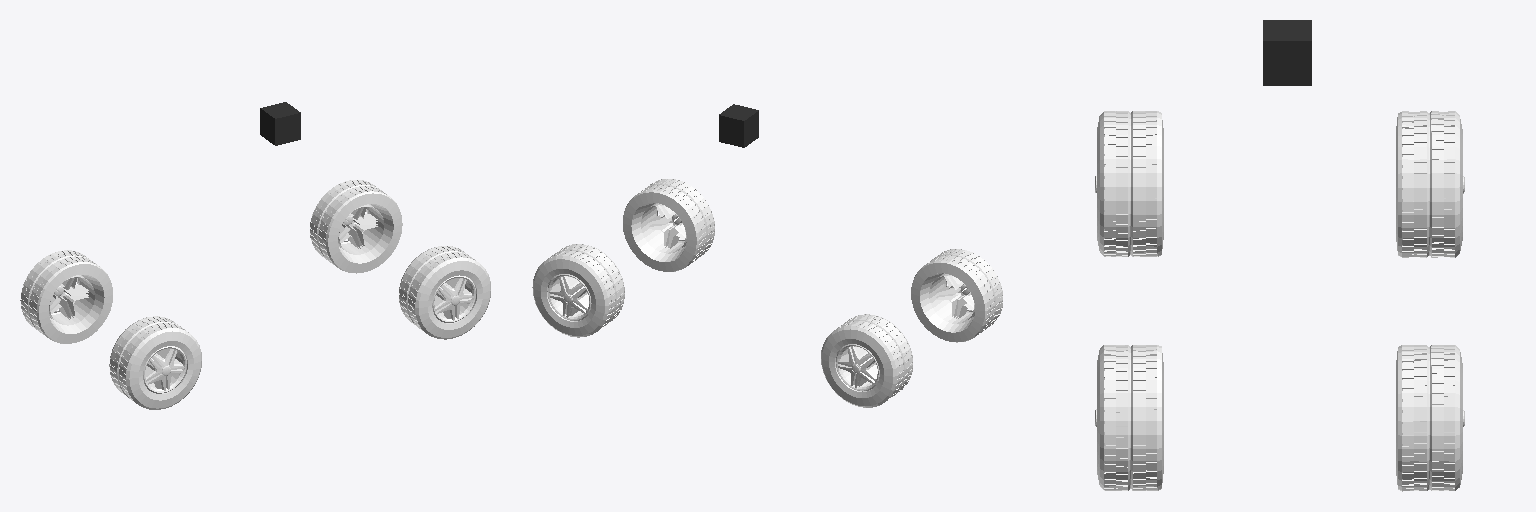
robot.urdf — autonomous_car:
<?xml version="1.0"?>
<robot name="autonomous_car">
  
  <!-- Base Link (Chassis) -->
  <link name="base_link">
    <inertial>
      <mass value="5.0"/>
      <origin xyz="0 0 0"/>
      <inertia ixx="0.1" ixy="0.0" ixz="0.0" iyy="0.1" iyz="0.0" izz="0.1"/>
    </inertial>
   <visual>
      <geometry>
        <mesh filename="car.obj" scale="0.05 0.05 0.05"/>
      </geometry>
      <material name="gray">
        <color rgba="0.5 0.5 0.5 1"/>
      </material>
    </visual>
    <collision>
      <geometry>
        <box size="0.8 0.3 0.15"/>
      </geometry>
    </collision>
  </link>
  
  <!-- Front Left Wheel -->  
  <link name="front_left_wheel">
    <visual>
      <geometry>
        <mesh filename="wl.obj" scale="0.05 0.05 0.05"/>
      </geometry>
      <material name="white">
        <color rgba="255 255 255 255"/>
      </material>
    </visual>
    <collision>
      <geometry>
        <cylinder radius="0.06" length="0.06"/>
      </geometry>
    </collision>
  </link>
  <!-- 將車輪旋轉 90 度，使得輪子的幾何外觀從原本「橫放」改為沿 Y 軸排列，並設定關節旋轉軸沿 Y 軸，讓車輪滾動產生的推進方向為 X 軸 -->
  <joint name="front_left_wheel_joint" type="continuous">
    <parent link="base_link"/>
    <child link="front_left_wheel"/>
    <origin xyz="0.28 0.15 -0.11" rpy="-1.57 0 0"/>
    <axis xyz="0 1 0"/>
  </joint>
  
  
  <!-- Front Right Wheel -->
  <link name="front_right_wheel">
   <visual>
      <geometry>
        <mesh filename="wlr.obj" scale="0.05 0.05 0.05"/>
      </geometry>
      <material name="white">
        <color rgba="255 255 255 255"/>
      </material>
    </visual>
    <collision>
      <geometry>
        <cylinder radius="0.06" length="0.06"/>
      </geometry>
    </collision>
  </link>
  <joint name="front_right_wheel_joint" type="continuous">
    <parent link="base_link"/>
    <child link="front_right_wheel"/>
    <origin xyz="0.28 -0.15 -0.11" rpy="-1.57 0 0"/>
    <axis xyz="0 0 1"/>
  </joint>
  
  <!-- Rear Left Wheel -->
  <link name="rear_left_wheel">
    <visual>
      <geometry>
        <mesh filename="wl.obj" scale="0.05 0.05 0.05"/>
      </geometry>
      <material name="white">
        <color rgba="255 255 255 255"/>
      </material>
    </visual>
    <collision>
      <geometry>
        <cylinder radius="0.06" length="0.06"/>
      </geometry>
    </collision>
  </link>
  <joint name="rear_left_wheel_joint" type="continuous">
    <parent link="base_link"/>
    <child link="rear_left_wheel"/>
    <origin xyz="-0.28 0.15 -0.11" rpy="-1.57 0 0"/>
    <axis xyz="0 1 1"/>
  </joint>
  
  <!-- Rear Right Wheel -->
  <link name="rear_right_wheel">
    <visual>
      <geometry>
        <mesh filename="wlr.obj" scale="0.05 0.05 0.05"/>
      </geometry>
      <material name="white">
        <color rgba="255 255 255 255"/>
      </material>
    </visual>
    <collision>
      <geometry>
        <cylinder radius="0.06" length="0.06"/>
      </geometry>
    </collision>
  </link>
  <joint name="rear_right_wheel_joint" type="continuous">
    <parent link="base_link"/>
    <child link="rear_right_wheel"/>
    <origin xyz="-0.28 -0.15 -0.11" rpy="-1.57 0 0"/>
    <axis xyz="0 0 1"/>
  </joint>

  <!-- Camera Link -->
  <link name="camera_link">
    <visual>
      <geometry>
        <box size="0.05 0.05 0.05"/>
      </geometry>
      <material name="grey">
        <color rgba="0.25 0.25 0.25 1.0"/>
      </material>
    </visual>
    <collision>
      <geometry>
        <box size="0.05 0.05 0.05"/>
      </geometry>
    </collision>
  </link>
  <joint name="camera_joint" type="fixed">
    <parent link="base_link"/>
    <child link="camera_link"/>
    <origin xyz="0.05 0 0.19"  rpy="0 0 0"/>
  </joint>
</robot>

--- Render facts (derived) ---
The picture shows the robot from 3 angles, left to right: view 1: azimuth 30°, elevation 25°; view 2: azimuth 150°, elevation 25°; view 3: azimuth 270°, elevation 25°; orthographic projection.
Robot: autonomous_car — 6 links, 5 joints (4 continuous, 1 fixed); root link base_link; default pose: every joint at zero.
Visible links, largest first — view 1: rear_right_wheel, front_right_wheel, rear_left_wheel, front_left_wheel, camera_link; view 2: front_left_wheel, rear_left_wheel, rear_right_wheel, front_right_wheel, camera_link; view 3: rear_left_wheel, front_right_wheel, front_left_wheel, rear_right_wheel, camera_link.
Link boxes in pixels (x1,y1,x2,y2): rear_right_wheel: (109, 316, 201, 409); front_right_wheel: (399, 246, 490, 339); rear_left_wheel: (20, 250, 112, 343); front_left_wheel: (310, 180, 402, 273); camera_link: (260, 102, 300, 145); front_left_wheel: (532, 244, 624, 337); rear_left_wheel: (821, 314, 912, 407); rear_right_wheel: (911, 249, 1002, 342); front_right_wheel: (623, 179, 714, 271); camera_link: (719, 104, 758, 147); rear_left_wheel: (1396, 111, 1464, 257); front_right_wheel: (1095, 345, 1163, 490); front_left_wheel: (1396, 345, 1464, 491); rear_right_wheel: (1095, 111, 1163, 256); camera_link: (1263, 20, 1311, 85).
Size in the robot's own frame: 0.7098 by 0.3754 by 0.4003 metres.
4 mesh visuals loaded from 3 distinct referenced files (2 OBJ); not drawn: 1 (reference not matched to a file when rendering).
